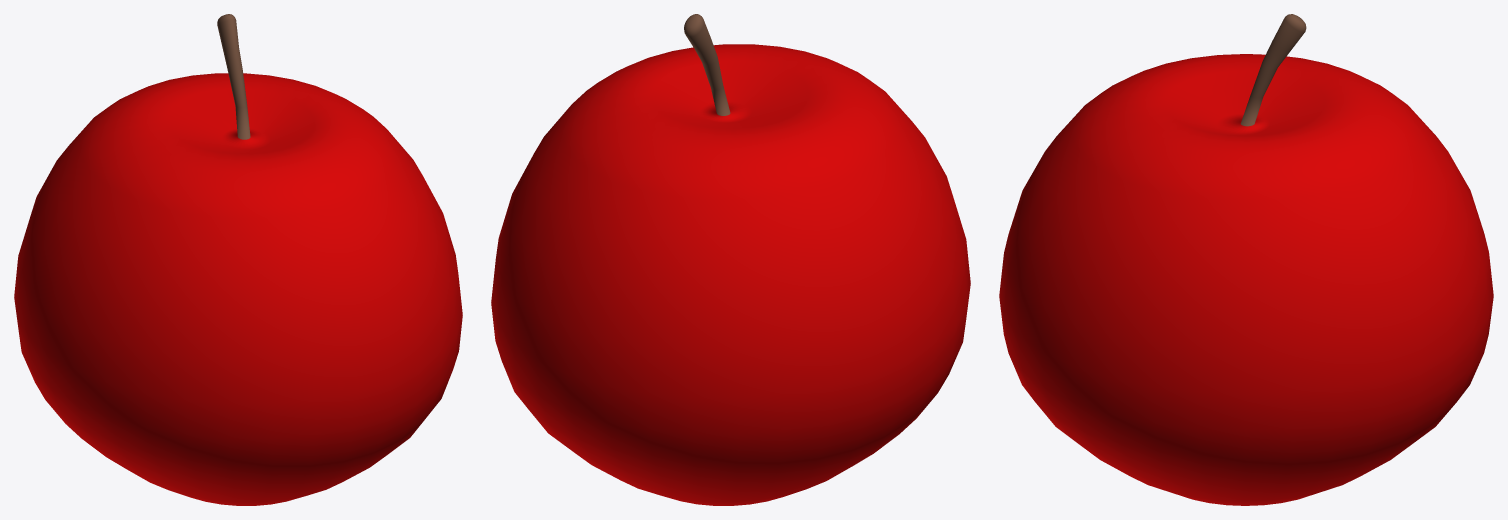
File: Apple.fbx
3 views of the same model, side by side, from view 1: azimuth 30°, elevation 25°; view 2: azimuth 150°, elevation 25°; view 3: azimuth 270°, elevation 25° (orthographic). The views are drawn at different scales.
Visible parts, largest first — view 1: Sphere; view 2: Sphere; view 3: Sphere.
Part boxes in pixels (<box>): Sphere: <box>14,14,462,505</box>; Sphere: <box>491,14,970,505</box>; Sphere: <box>999,14,1493,505</box>.
Size of the model in its own units: 202 by 229 by 216.
